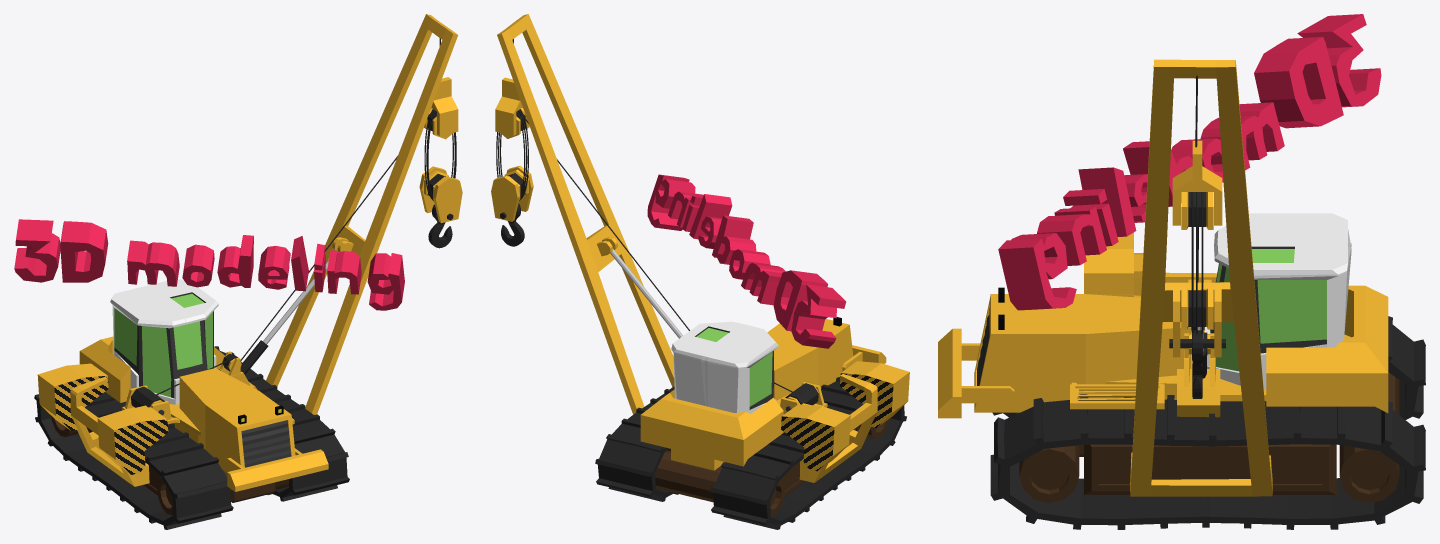
Rendered from 3Dmodeling.glb.
3 views of the same model, side by side, from view 1: azimuth 30°, elevation 25°; view 2: azimuth 150°, elevation 25°; view 3: azimuth 270°, elevation 25° (orthographic). The views are drawn at different scales.
Visible parts, largest first — view 1: КриваяБезье, Плоскость, Плоскость.001, Плоскость.003; view 2: КриваяБезье, Плоскость, Плоскость.003, Плоскость.001; view 3: КриваяБезье, Плоскость, Плоскость.001, Плоскость.003.
Part boxes in pixels (left/top/right/bottom): КриваяБезье: left=37, top=14, right=462, bottom=514; Плоскость: left=14, top=219, right=404, bottom=310; Плоскость.001: left=110, top=279, right=218, bottom=404; Плоскость.003: left=34, top=392, right=233, bottom=529; КриваяБезье: left=491, top=14, right=909, bottom=515; Плоскость: left=647, top=174, right=846, bottom=348; Плоскость.003: left=710, top=377, right=906, bottom=529; Плоскость.001: left=671, top=321, right=778, bottom=413; КриваяБезье: left=938, top=59, right=1425, bottom=529; Плоскость: left=998, top=14, right=1381, bottom=310; Плоскость.001: left=1204, top=213, right=1351, bottom=389; Плоскость.003: left=992, top=316, right=1425, bottom=419.
Bounding box in the file's own units: 14.53 × 13.68 × 10.32.
Materials: 2 (2 with a texture image).
